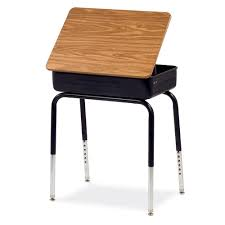desk: (40, 8, 185, 216)
